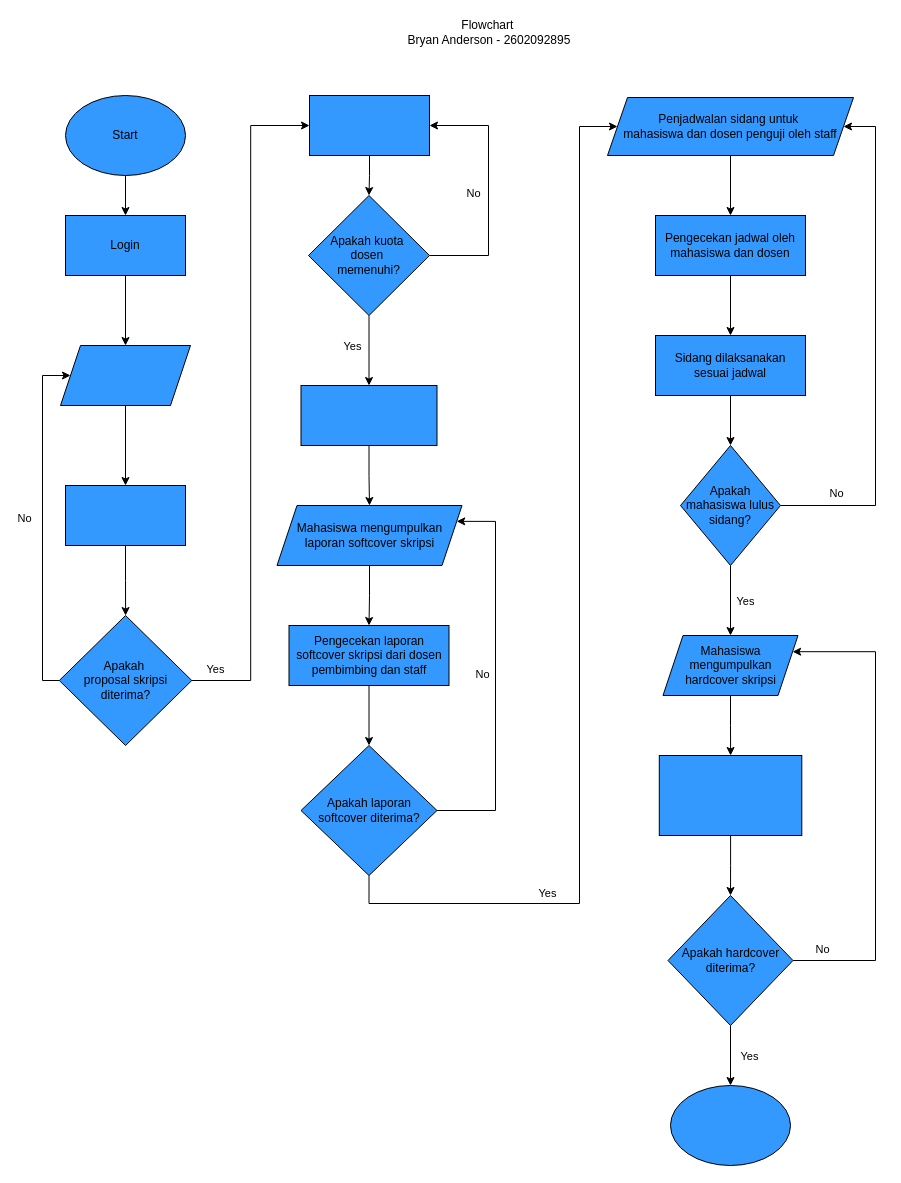
The diagram is 901 pixels wide and 1183 high, and some of its shapes have lost their labels. The shapes that lost their labels are listed below. From the top down, each one's centre as x and y in pixels, then its label:
At (369,125): "Mahasiswa memilih dosen pembimbing".
At (125,375): "Mahasiswa input proposal skripsi".
At (368,415): "Melakukan bimbingan skripsi".
At (125,515): "Proposal diperiksa oleh dosen reviewer".
At (730,795): "Pengecekkan hardcover skripsi oleh dosen pembimbing, dosen penguji, dan staff".
At (730,1125): "End".
